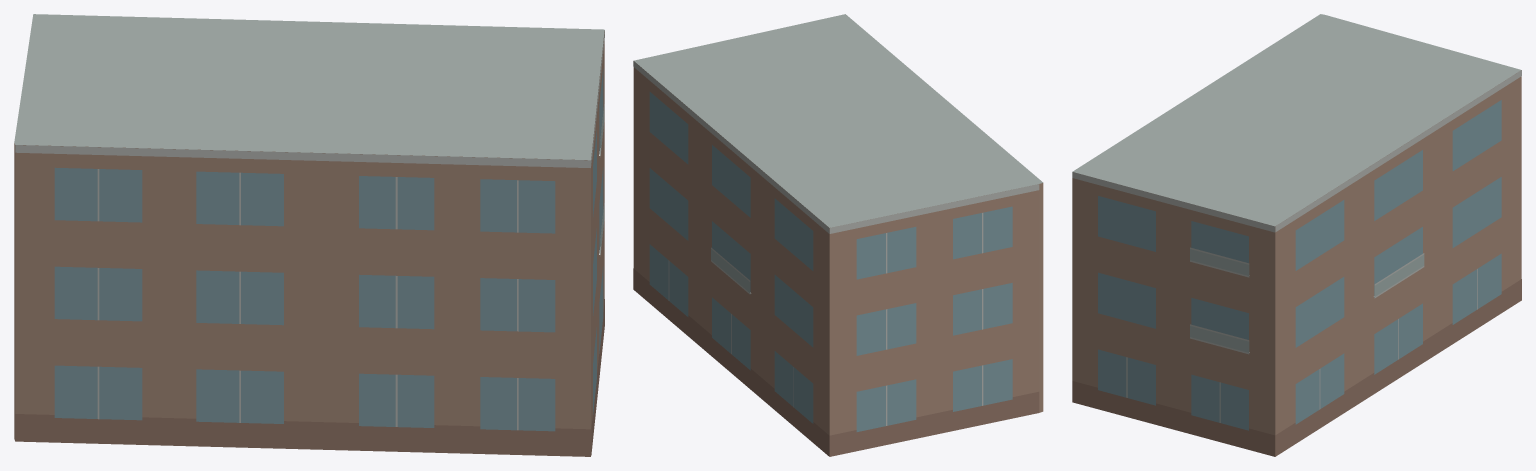
The model's file is survey-upis-32637414.glb.
3 views of the same model, side by side, from view 1: azimuth 30°, elevation 25°; view 2: azimuth 150°, elevation 25°; view 3: azimuth 270°, elevation 25° (orthographic). The views are drawn at different scales.
Visible parts, largest first — view 1: survey-upis-32637414.tmp; view 2: survey-upis-32637414.tmp; view 3: survey-upis-32637414.tmp.
Part boxes in pixels (<box>): survey-upis-32637414.tmp: <box>14,14,604,456</box>; survey-upis-32637414.tmp: <box>633,14,1043,456</box>; survey-upis-32637414.tmp: <box>1072,14,1521,456</box>.
Bounding box in the file's own units: 17.99 × 9.1 × 16.09.
